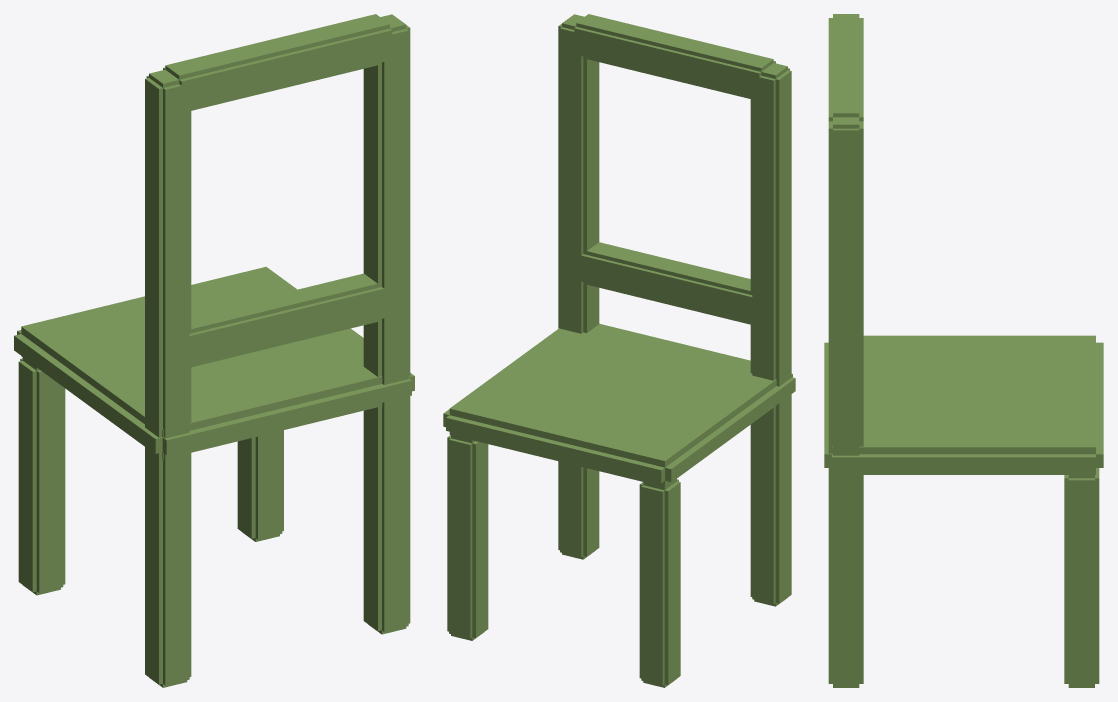
File: cactus_chair_v0.glb
3 views of the same model, side by side, from view 1: azimuth 30°, elevation 25°; view 2: azimuth 150°, elevation 25°; view 3: azimuth 270°, elevation 25° (orthographic). The views are drawn at different scales.
Visible parts, largest first — view 1: cactus_chair_v0; view 2: cactus_chair_v0; view 3: cactus_chair_v0.
Part boxes in pixels (x1,y1,x2,y2): cactus_chair_v0: (14,14,414,687); cactus_chair_v0: (443,14,795,687); cactus_chair_v0: (824,14,1103,687).
Size of the model in its own units: 0.64 by 1.43 by 0.64.
